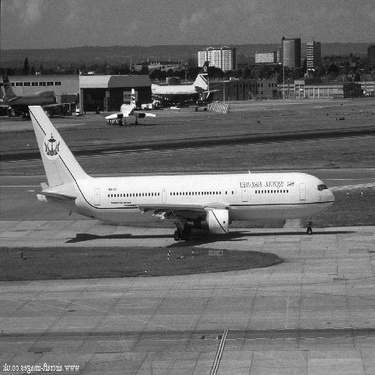airplane: (20, 94, 345, 251), (139, 56, 218, 106), (96, 81, 162, 129), (1, 75, 69, 119)
